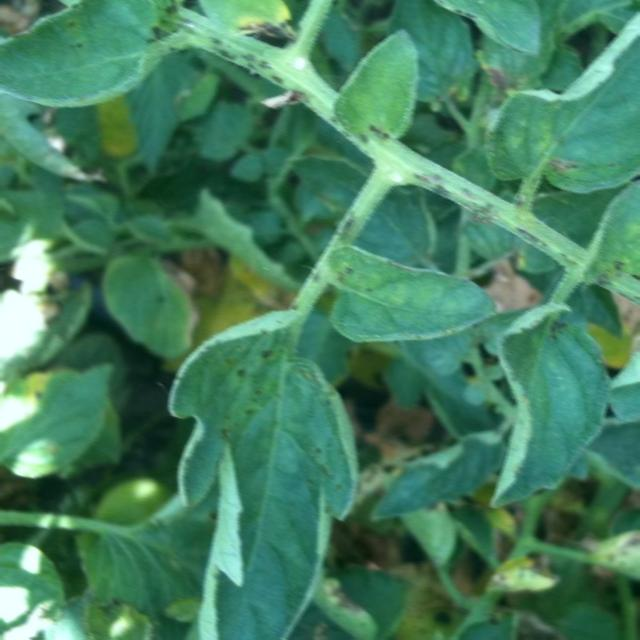Tomato leaf bacterial spot: (137, 315, 367, 640), (296, 233, 527, 374), (478, 0, 640, 198), (0, 0, 224, 121), (358, 0, 552, 60)
